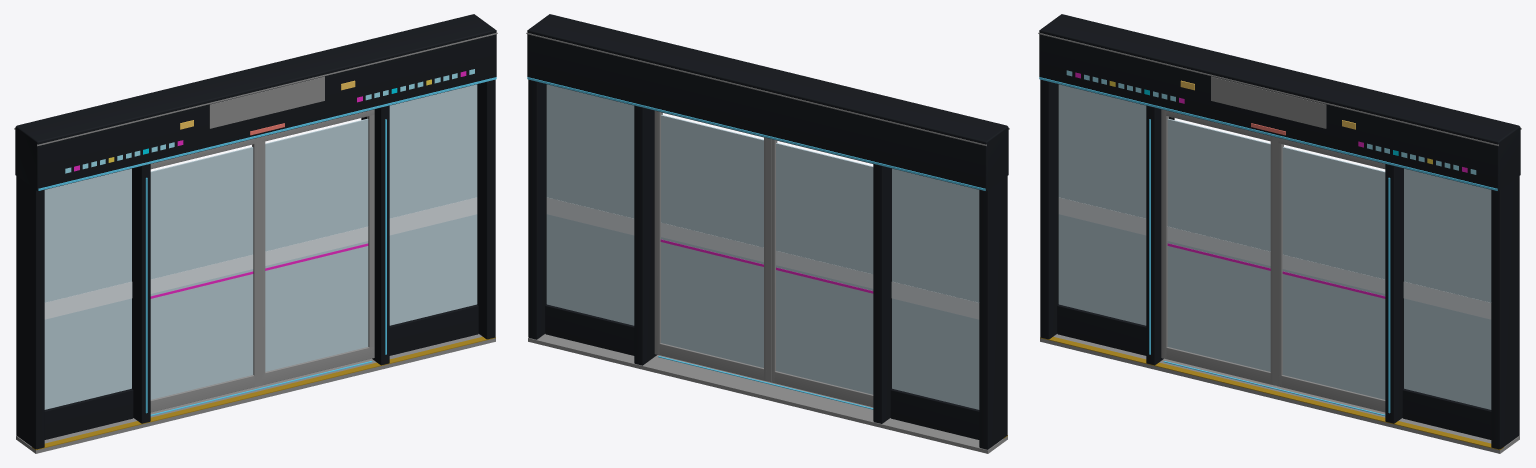
Rendered from Metro_Platform_Screen_Door_4m.fbx.
3 views of the same model, side by side, from view 1: azimuth 30°, elevation 25°; view 2: azimuth 150°, elevation 25°; view 3: azimuth 330°, elevation 25° (orthographic).
Parts seen in each view (by area): view 1: Metro_Platform_Screen_Door_4m_LOD0; view 2: Metro_Platform_Screen_Door_4m_LOD0; view 3: Metro_Platform_Screen_Door_4m_LOD0.
Boxes of the visible parts, x1,y1,x2,y2 form: Metro_Platform_Screen_Door_4m_LOD0: (14, 14, 497, 453); Metro_Platform_Screen_Door_4m_LOD0: (526, 14, 1009, 453); Metro_Platform_Screen_Door_4m_LOD0: (1038, 14, 1521, 453).
Size of what is drawn, in the model's own units: 4 by 2.6 by 0.353.
